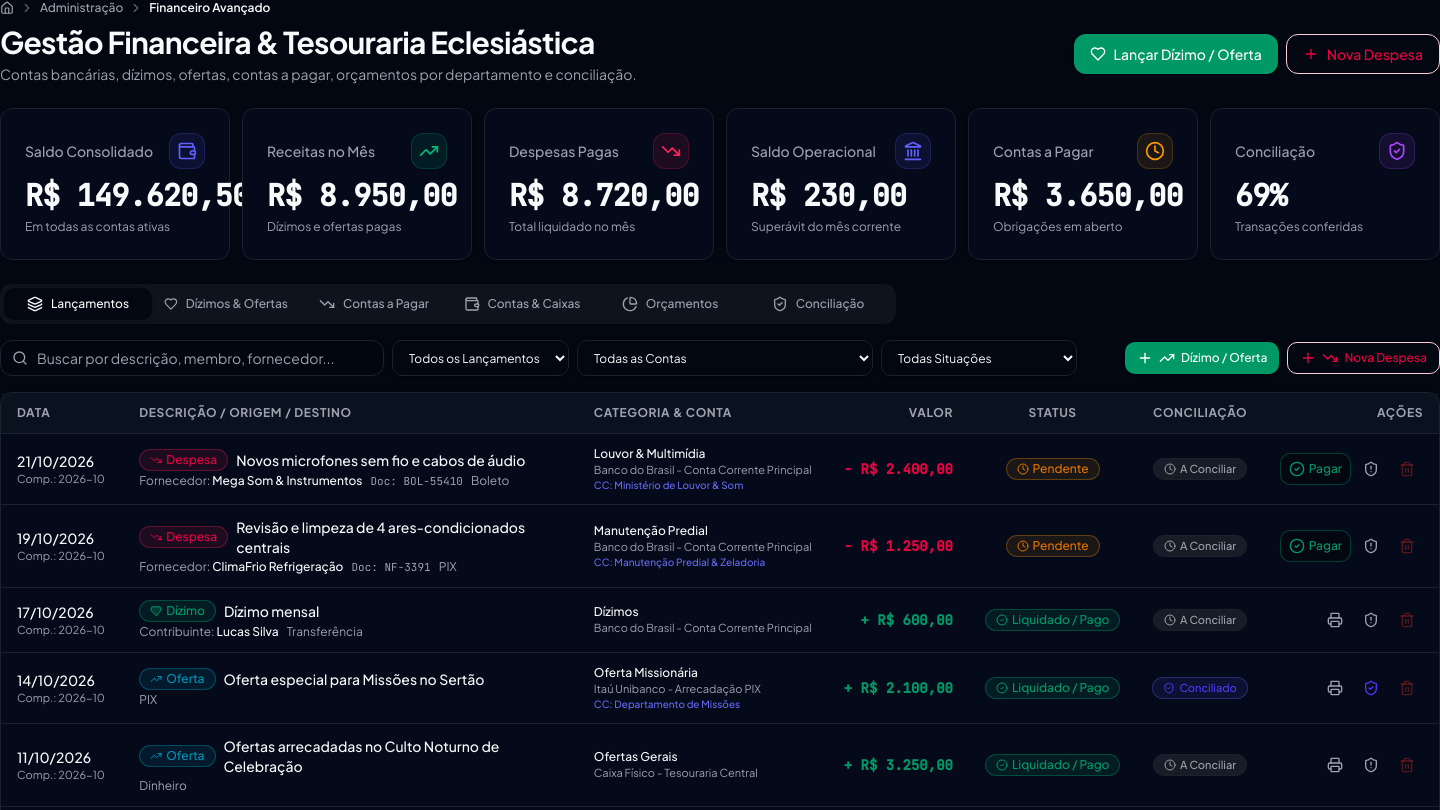
Etapa 07 — Financeiro Avançado › deve filtrar transações por tipo (Receitas x Despesas) e busca textual
The width and height of the screenshot is (1440, 810).
Filtra apenas por despesas
Select "Apenas Despesas (-)" in the dropdown named "Filtrar por tipo de lançamento" at [480, 358], box [392,340,569,376]
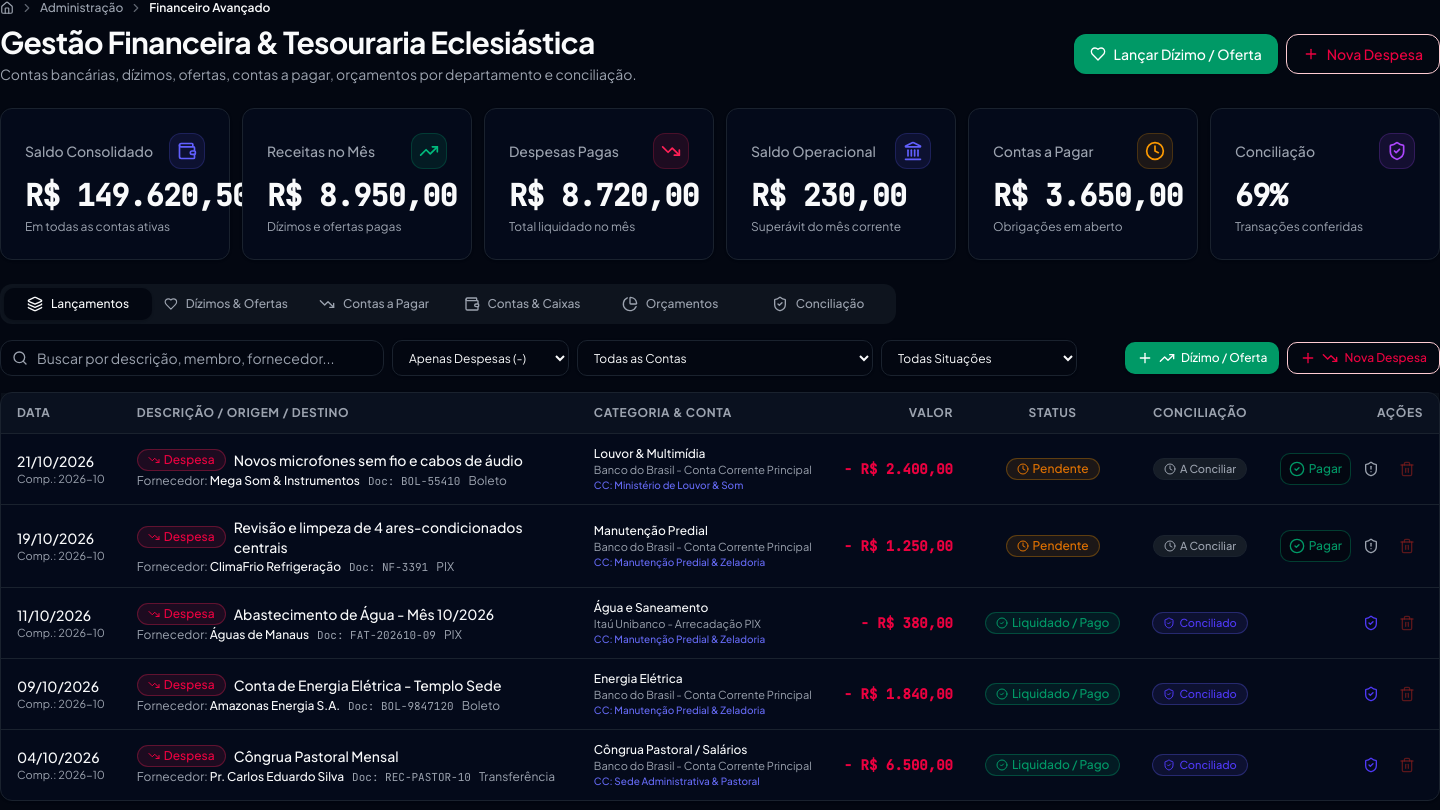
Expected: the text "Conta de Energia Elétrica - Templo Sede" is shown, [234,675,502,695]
Busca textual por fornecedor "Energia"
Type "Amazonas Energia" into the field with placeholder "Buscar por descrição, membro, fornecedor..." at [192, 358], box [0,340,384,376]
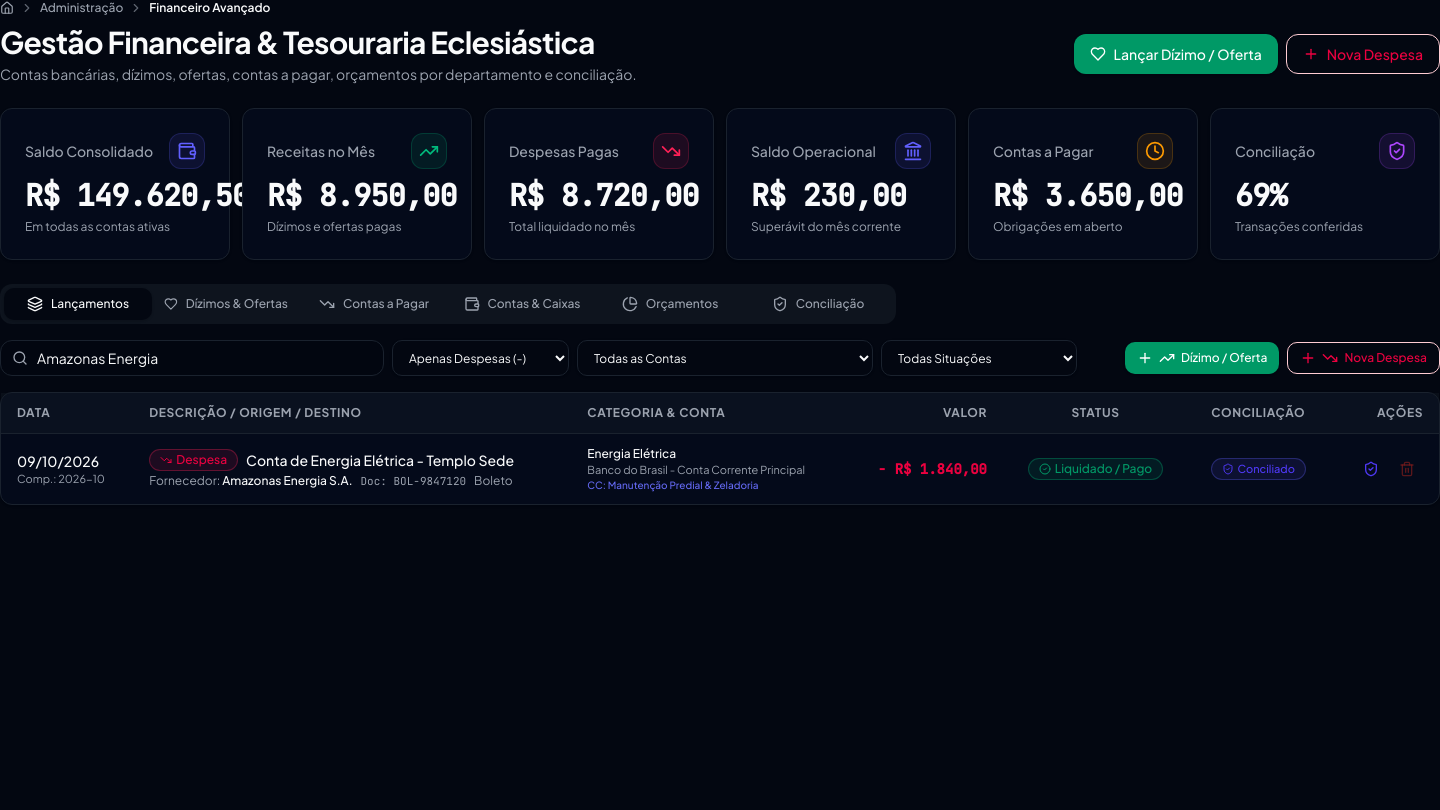
Expected: the text "Conta de Energia Elétrica - Templo Sede" is shown, [246,450,514,470]
Expected: the text "Abastecimento de Água - Mês 10/2026" is gone
